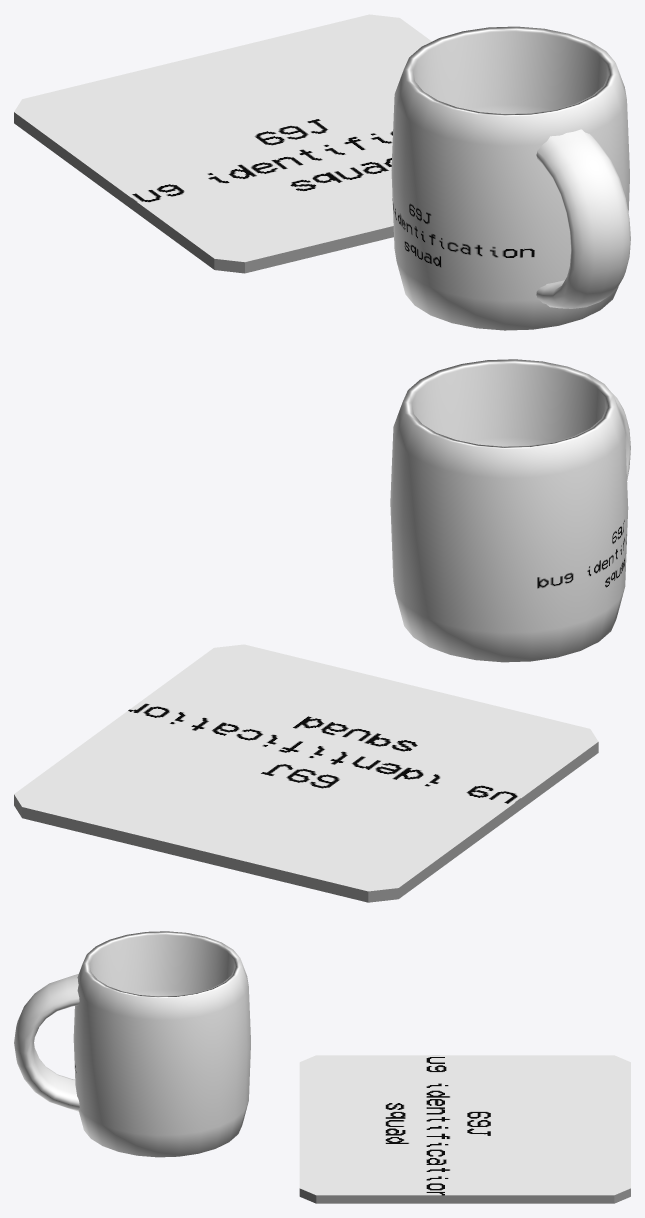
Rendered from mousePad and mug.fbx.
3 views of the same model, one above another, from view 1: azimuth 30°, elevation 25°; view 2: azimuth 150°, elevation 25°; view 3: azimuth 270°, elevation 25° (orthographic). The views are drawn at different scales.
Visible parts, largest first — view 1: mouse_pad, bug_mug1; view 2: mouse_pad, bug_mug1; view 3: mouse_pad, bug_mug1.
Part boxes in pixels (x1,y1,x2,y2): mouse_pad: [14, 14, 431, 273]; bug_mug1: [391, 26, 630, 330]; mouse_pad: [14, 644, 598, 902]; bug_mug1: [390, 359, 630, 662]; mouse_pad: [299, 1055, 630, 1203]; bug_mug1: [14, 931, 250, 1157].
Size of the model in its own units: 4 by 2.25 by 7.45.
